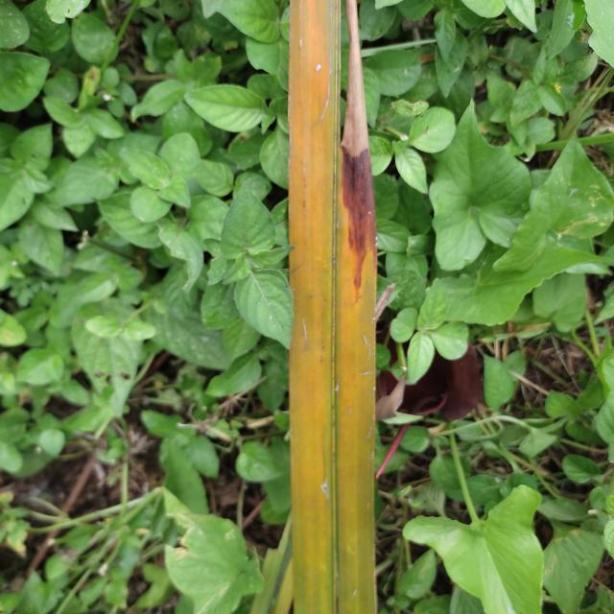Megnesium: (283, 0, 381, 614)
